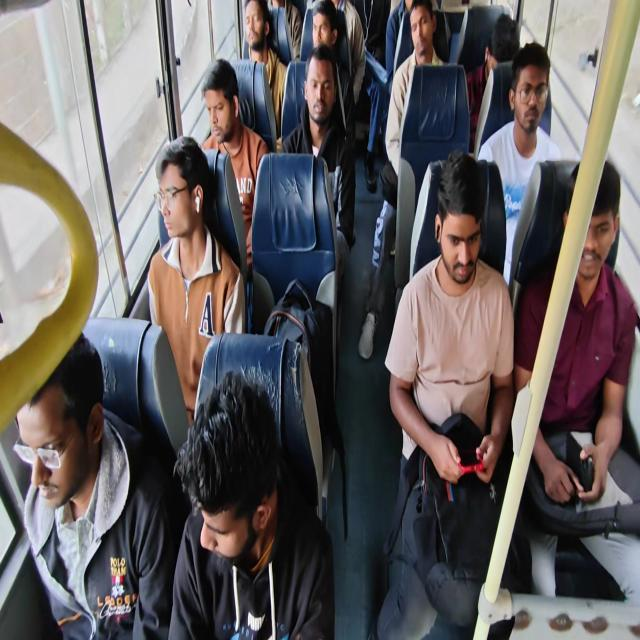person: (376, 150, 530, 638), (513, 158, 639, 601), (13, 331, 175, 638), (168, 370, 335, 638), (358, 1, 449, 360), (147, 135, 246, 427), (477, 41, 561, 288), (280, 44, 356, 274), (200, 58, 270, 274), (385, 1, 448, 178), (465, 12, 521, 150), (242, 0, 288, 144), (310, 0, 365, 106), (384, 0, 413, 79), (270, 0, 306, 61), (310, 0, 339, 52)
